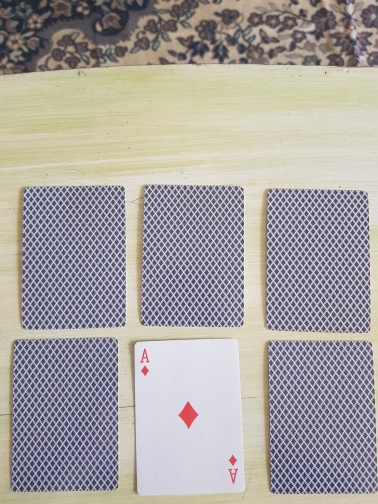ace: (131, 337, 248, 497)
